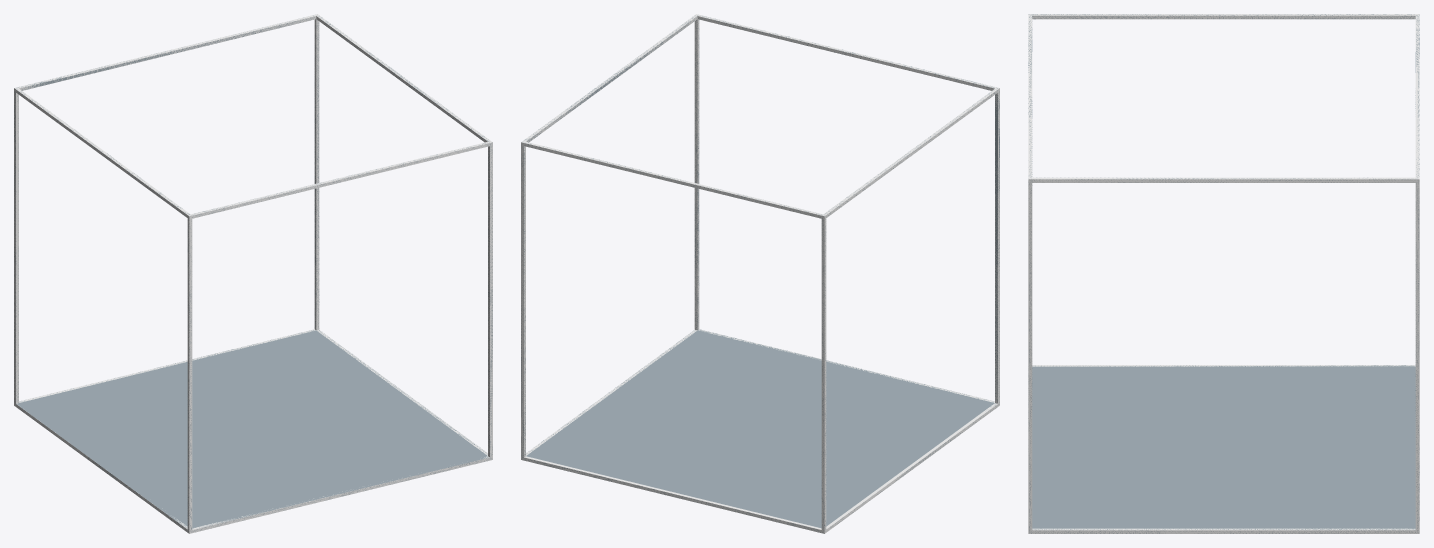
3 views of the same model, side by side, from view 1: azimuth 30°, elevation 25°; view 2: azimuth 150°, elevation 25°; view 3: azimuth 270°, elevation 25° (orthographic). The views are drawn at different scales.
Visible parts, largest first — view 1: Model; view 2: Model; view 3: Model.
Boxes of the visible parts, x1,y1,x2,y2 form: Model: (14, 14, 492, 533); Model: (521, 14, 999, 533); Model: (1028, 14, 1419, 533).
Size of the model in its own units: 1000 by 1000 by 1000.
